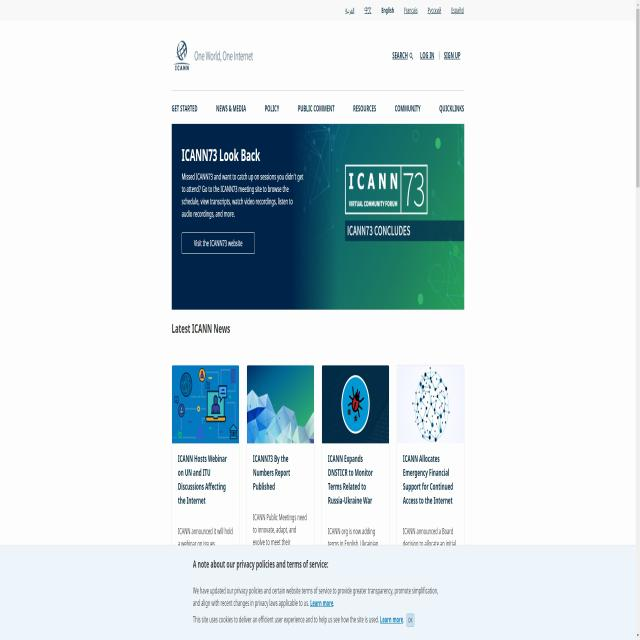menu-bar: (389, 44, 466, 72)
tab-bar: (168, 95, 468, 120)
